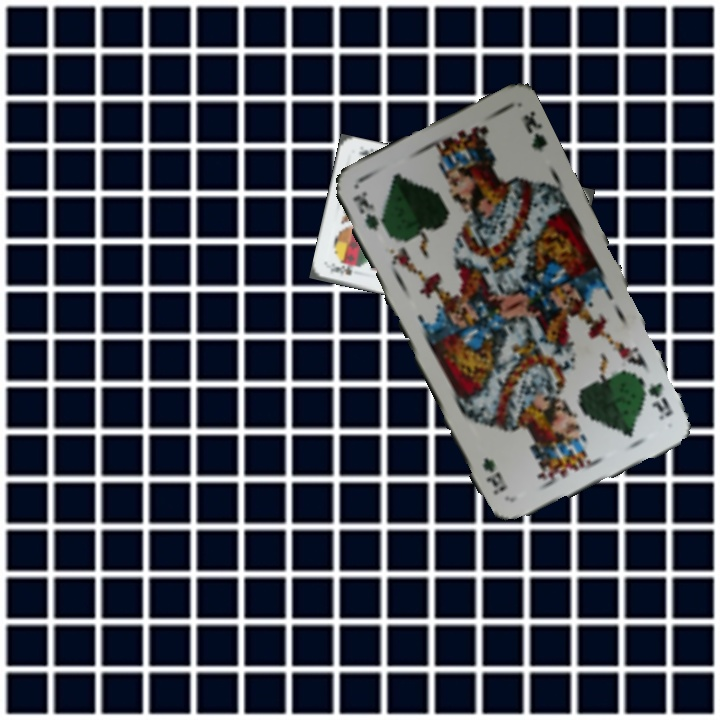GK: (349, 187, 382, 234), (644, 378, 675, 423)
SK: (326, 259, 355, 278)
